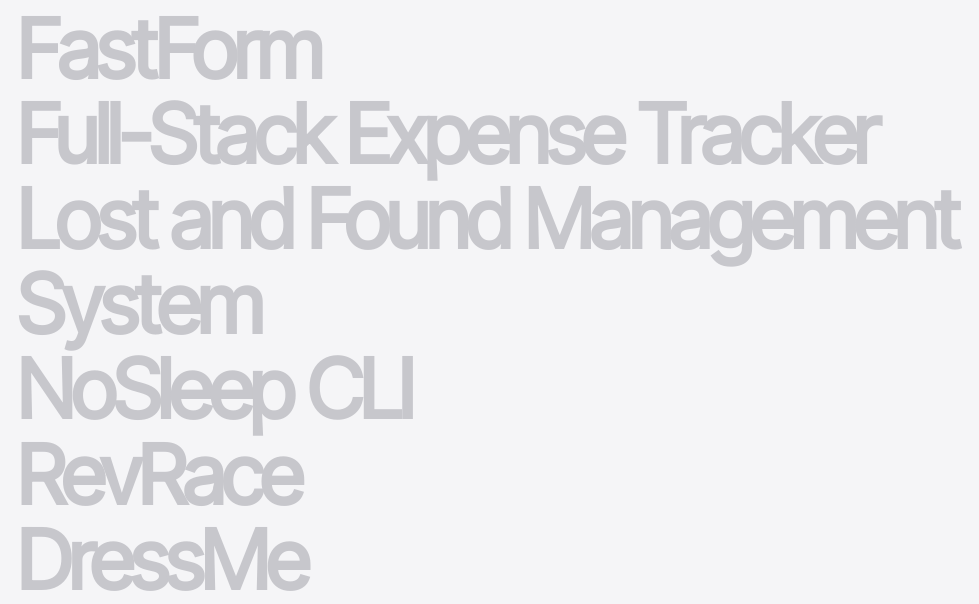
Test: ProjectWall › on touch › toggles the card of a project without a repository
The image size is (979, 604).
Click the button "RevRace" at (158, 475), box x1=16 y1=433 x2=299 y2=518
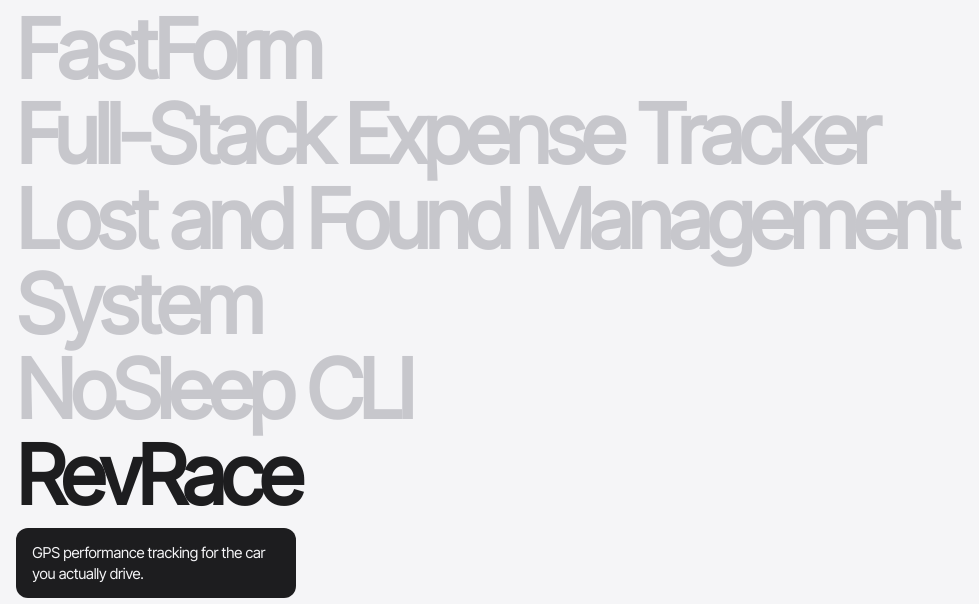
expect the button "RevRace" is expanded: met
Click the button "RevRace" at (158, 475), box x1=16 y1=433 x2=299 y2=518
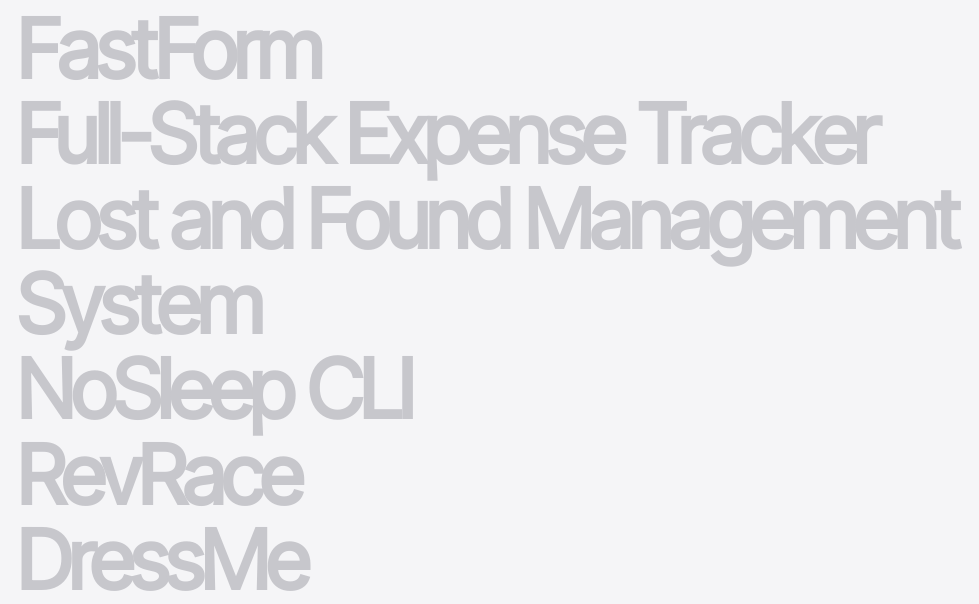
expect the button "RevRace" is collapsed: met, box x1=16 y1=433 x2=299 y2=518
